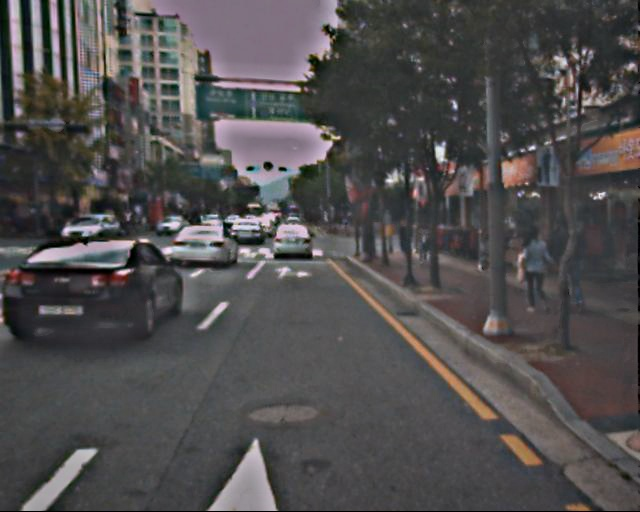person: (546, 211, 589, 315), (516, 228, 553, 318), (416, 219, 435, 265)
